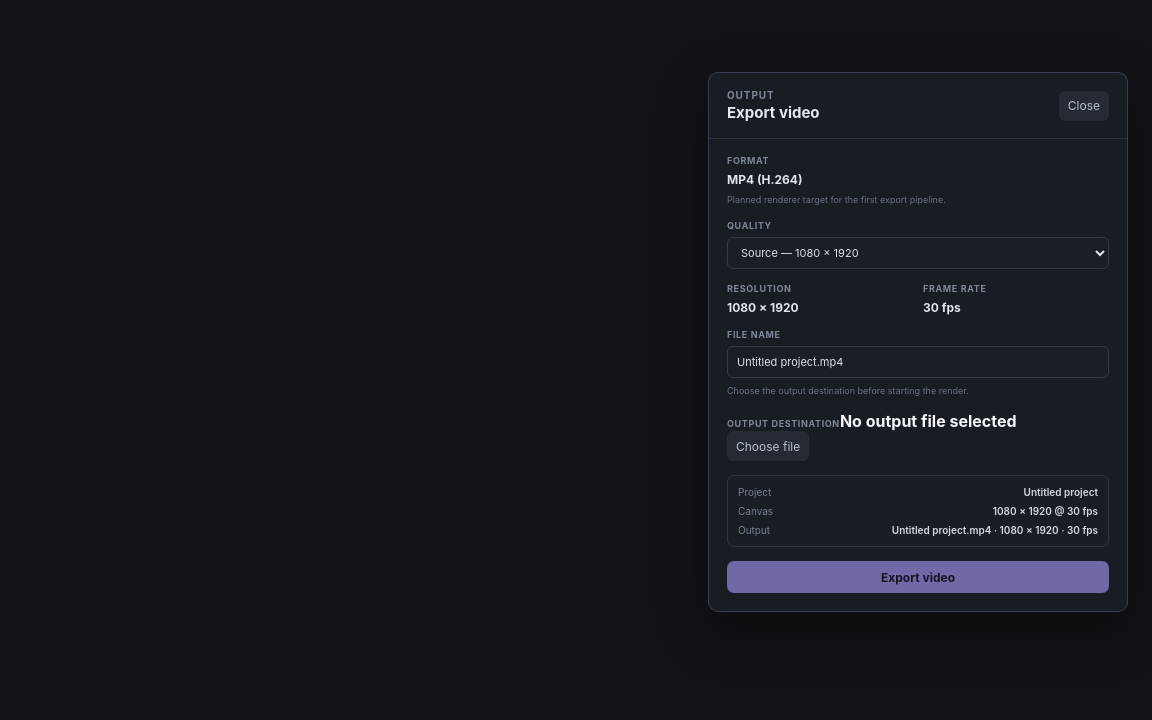
Test case: ExportPanel › shows the full renderer error when export fails
The width and height of the screenshot is (1152, 720).
Click the button named "Choose export destination" at (768, 446), box [727,431,809,461]
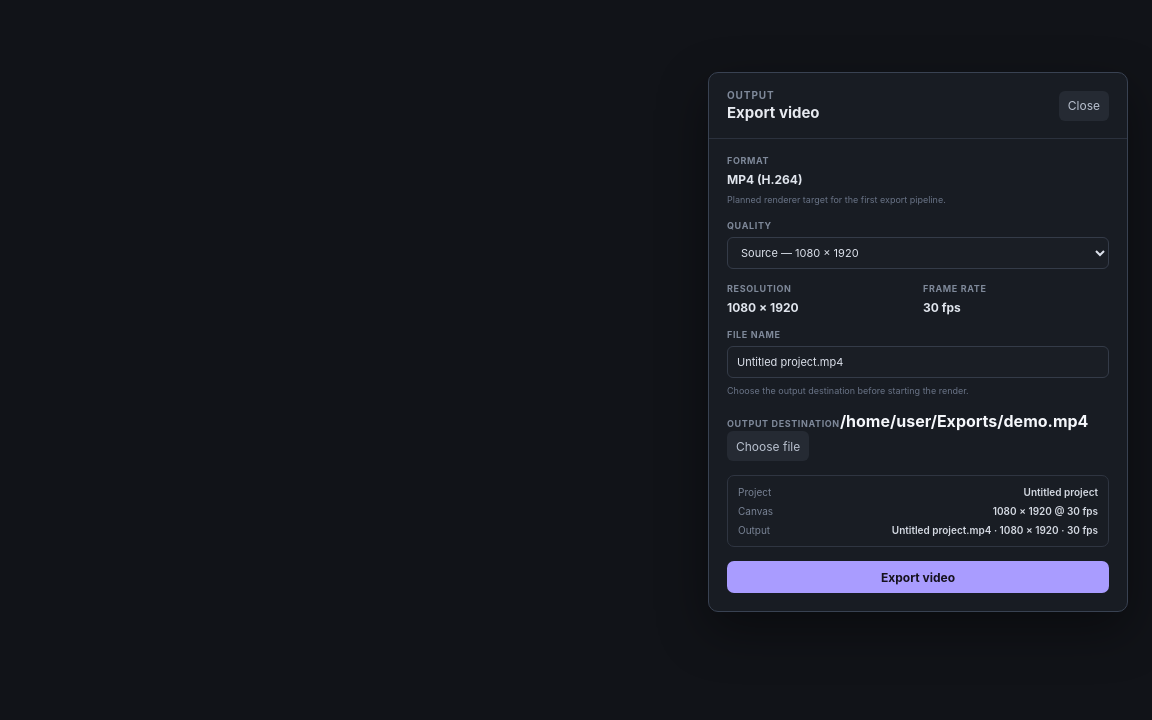
Result: the text "/home/user/Exports/demo.mp4" is shown at [840,411,1088,431]
Click the button "Export video" at (918, 577), box [727,561,1109,593]
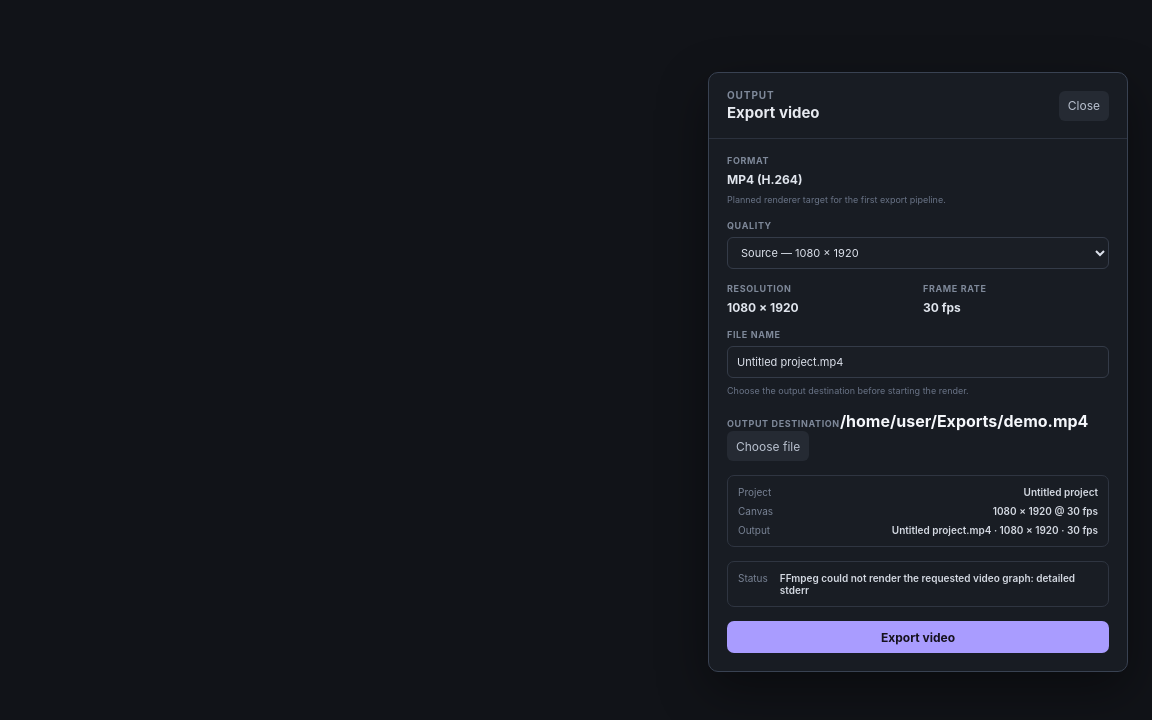
Result: the text "FFmpeg could not render the requested video graph: detailed stderr" is shown at [780,572,1098,596]
